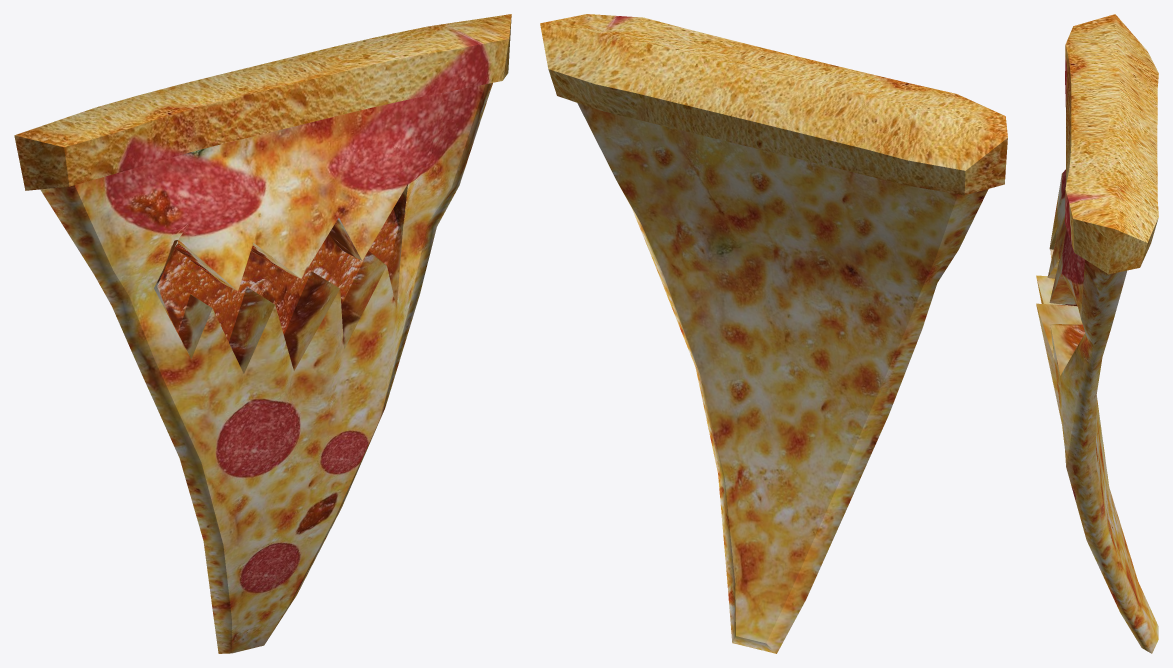
Rendered from pizza.glb.
The picture shows the model from 3 angles, left to right: view 1: azimuth 30°, elevation 25°; view 2: azimuth 150°, elevation 25°; view 3: azimuth 270°, elevation 25°; orthographic projection. The views are drawn at different scales.
Visible parts, largest first — view 1: Object_2; view 2: Object_2; view 3: Object_2.
Boxes of the visible parts, x1,y1,x2,y2 form: Object_2: (14,14,511,653); Object_2: (540,14,1007,653); Object_2: (1036,14,1158,653).
Size of the model in its own units: 6.23 by 7.14 by 1.5.
1 material, 1 textured.
